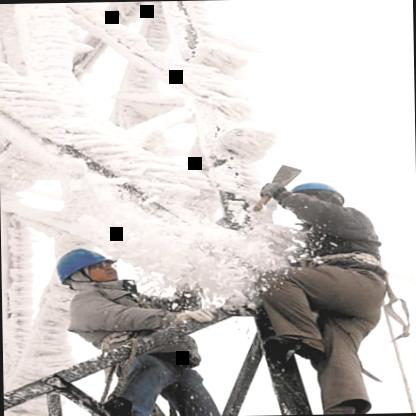helmet: (56, 238, 122, 294), (286, 172, 346, 210)
